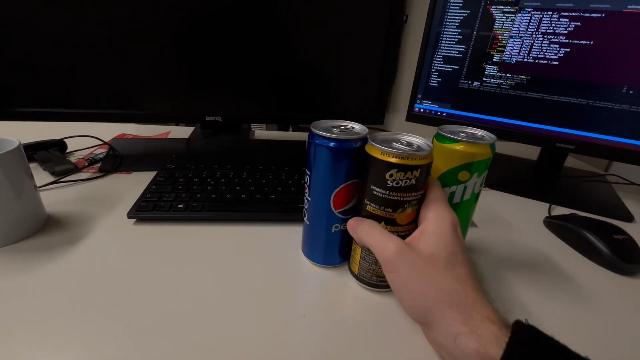OranSoda: (345, 129, 435, 291)
Pepsi: (298, 114, 370, 270)
Sprite: (428, 123, 497, 245)
